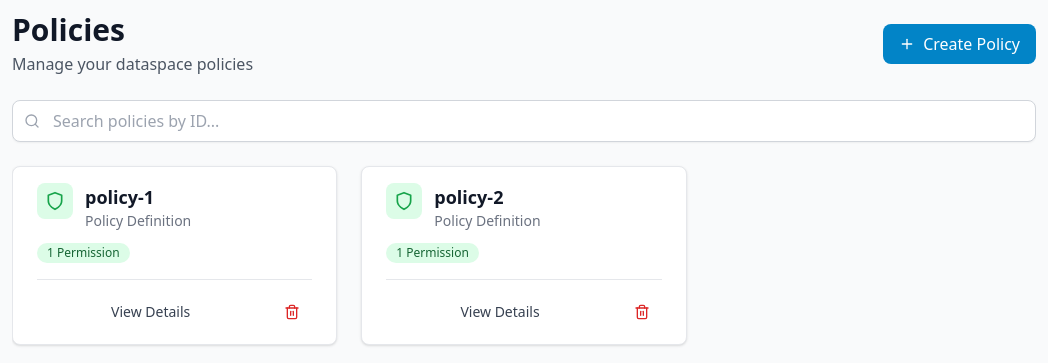
Test: Policies Page Integration Tests › Search Functionality › should show "no matches" message when search returns no results
Check: the heading "policy-1" is shown, box [85,185,154,209]
Type "nonexistent-policy" into the field with placeholder "Search policies by ID..." at (524, 121), box [12,100,1036,142]
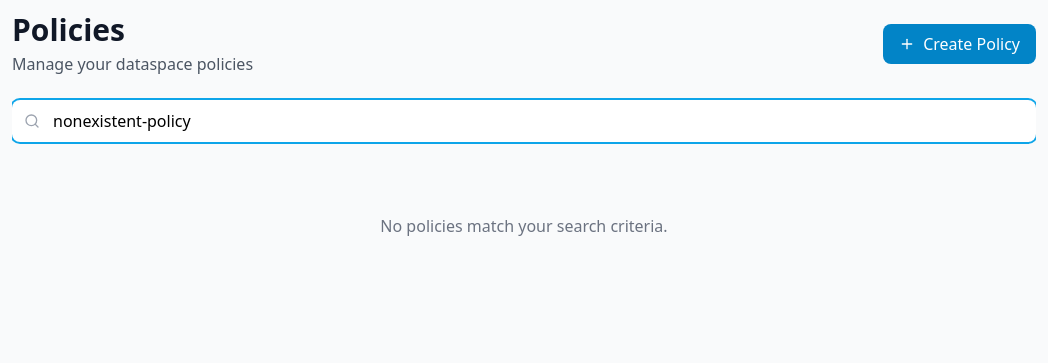
Check: the text "No policies match your search criteria." is shown, box [380,215,668,237]
